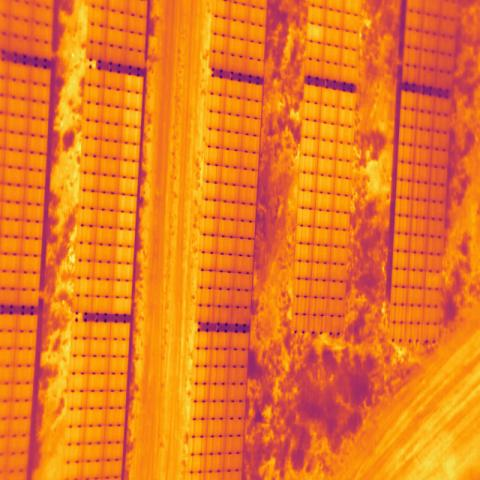fault: (306, 21, 326, 44)
